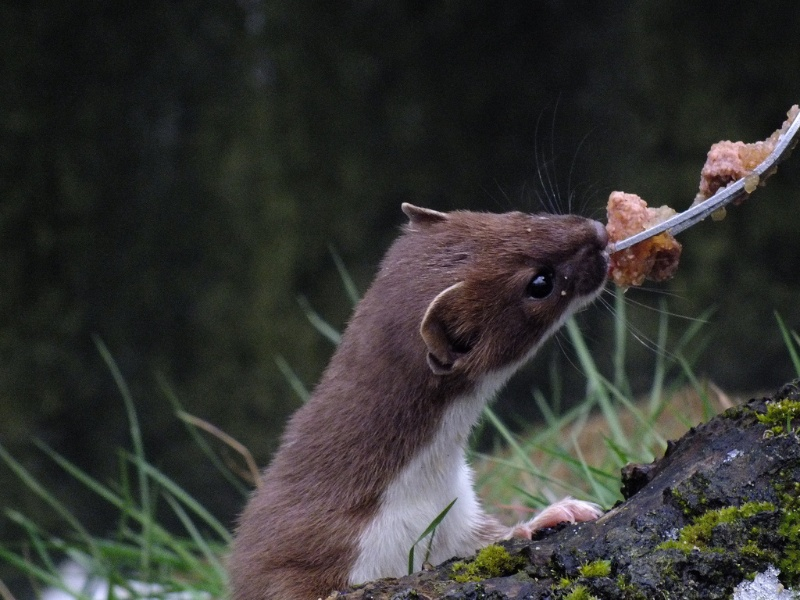minkish: (223, 192, 610, 600)
